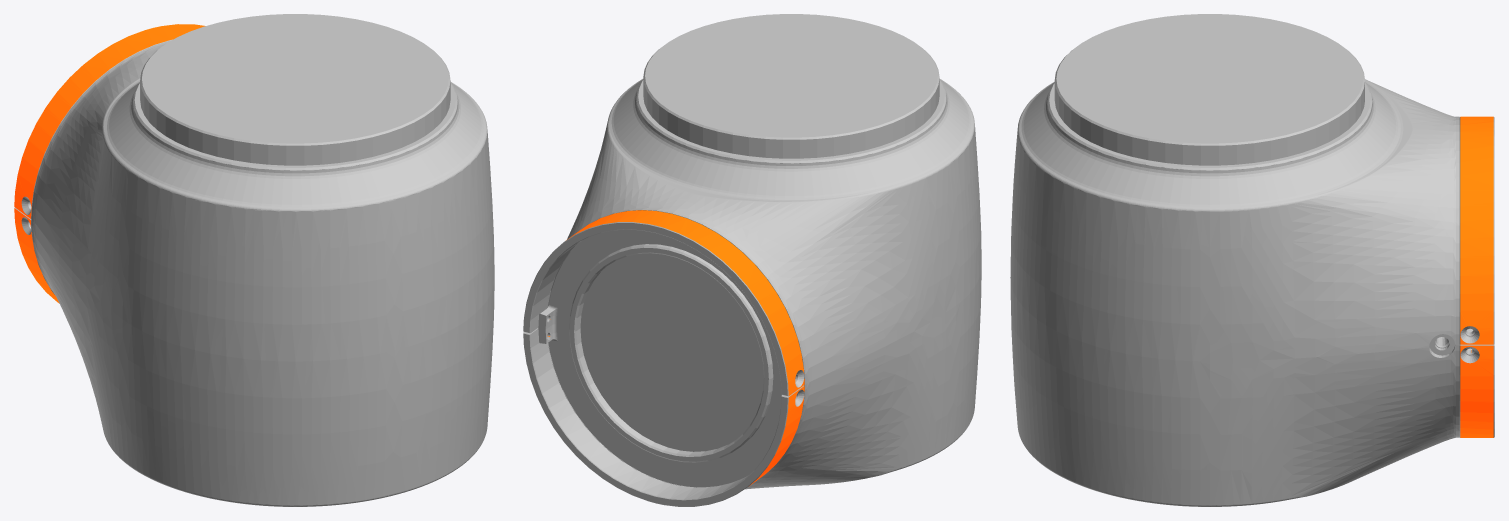
3 views of the same model, side by side, from view 1: azimuth 30°, elevation 25°; view 2: azimuth 150°, elevation 25°; view 3: azimuth 270°, elevation 25° (orthographic). The views are drawn at different scales.
Parts seen in each view (by area): view 1: AR5-5_07R-W4C4A2_link1; view 2: AR5-5_07R-W4C4A2_link1; view 3: AR5-5_07R-W4C4A2_link1.
Boxes of the visible parts, x1,y1,x2,y2 form: AR5-5_07R-W4C4A2_link1: (14,14,494,506); AR5-5_07R-W4C4A2_link1: (523,14,981,506); AR5-5_07R-W4C4A2_link1: (1010,14,1494,506).
Size of the model in its own units: 0.1142 by 0.1159 by 0.1386.
